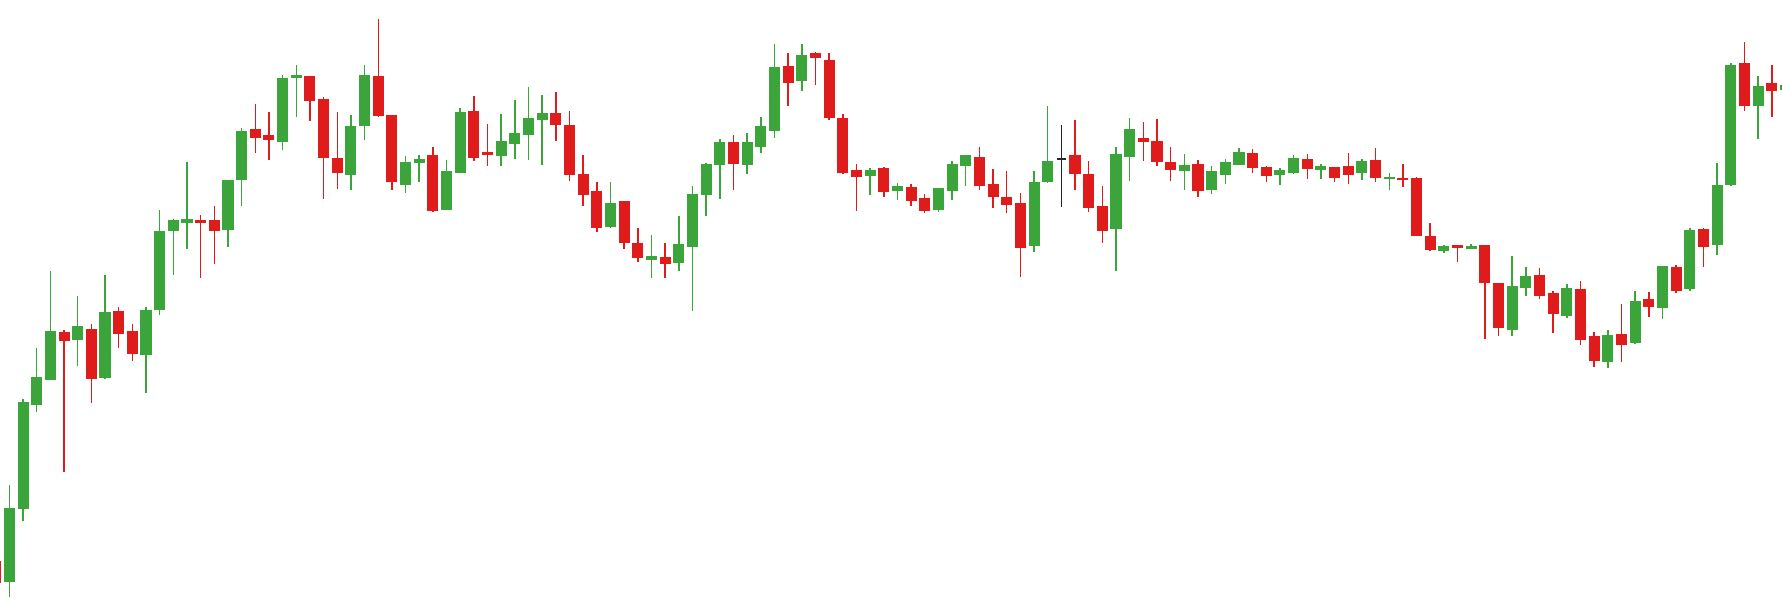buy: (916, 177, 1040, 271)
sell: (292, 20, 385, 147), (1056, 114, 1151, 214)
